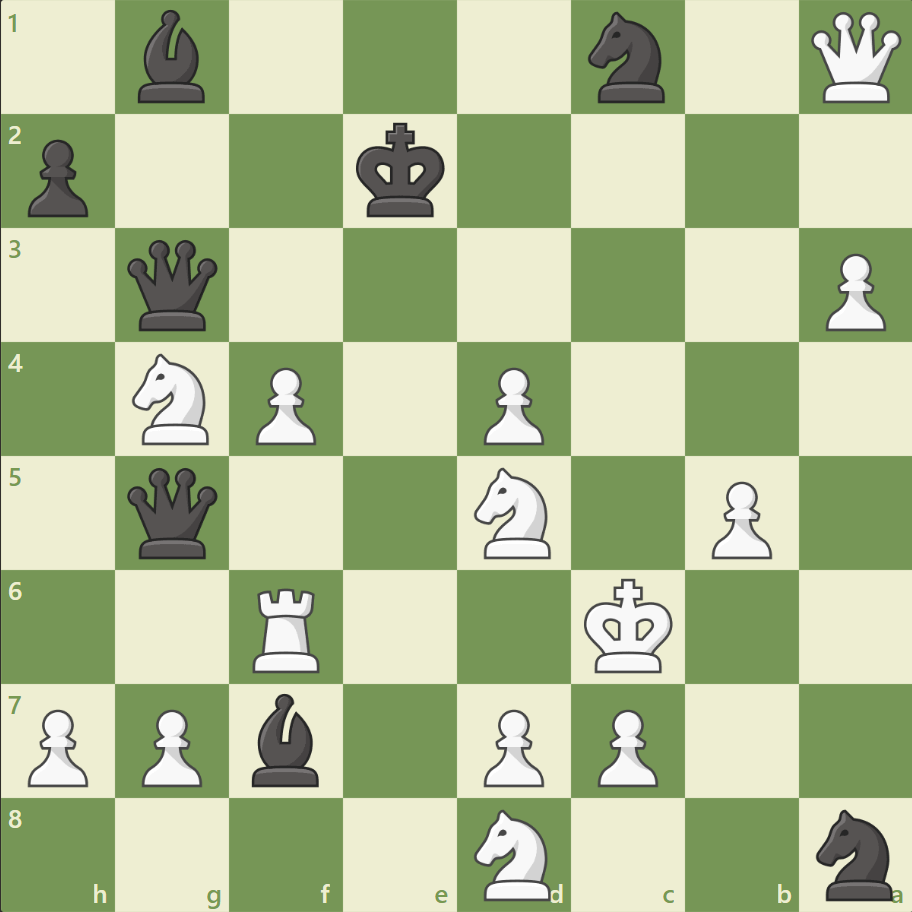K: (579, 571, 679, 679)
N: (124, 348, 222, 450), (465, 461, 562, 564), (465, 802, 562, 904)
P: (474, 700, 549, 791), (133, 700, 208, 791), (20, 700, 95, 791), (701, 473, 776, 564), (474, 359, 549, 450), (247, 359, 322, 450), (588, 700, 662, 791), (815, 246, 889, 337)
Q: (805, 9, 904, 108)
R: (246, 579, 329, 676)
b: (244, 687, 328, 790), (131, 6, 215, 109)
k: (351, 117, 451, 225)
n: (579, 7, 676, 110), (806, 802, 903, 904)
p: (20, 132, 95, 223)
q: (124, 463, 223, 562), (124, 236, 223, 335)
